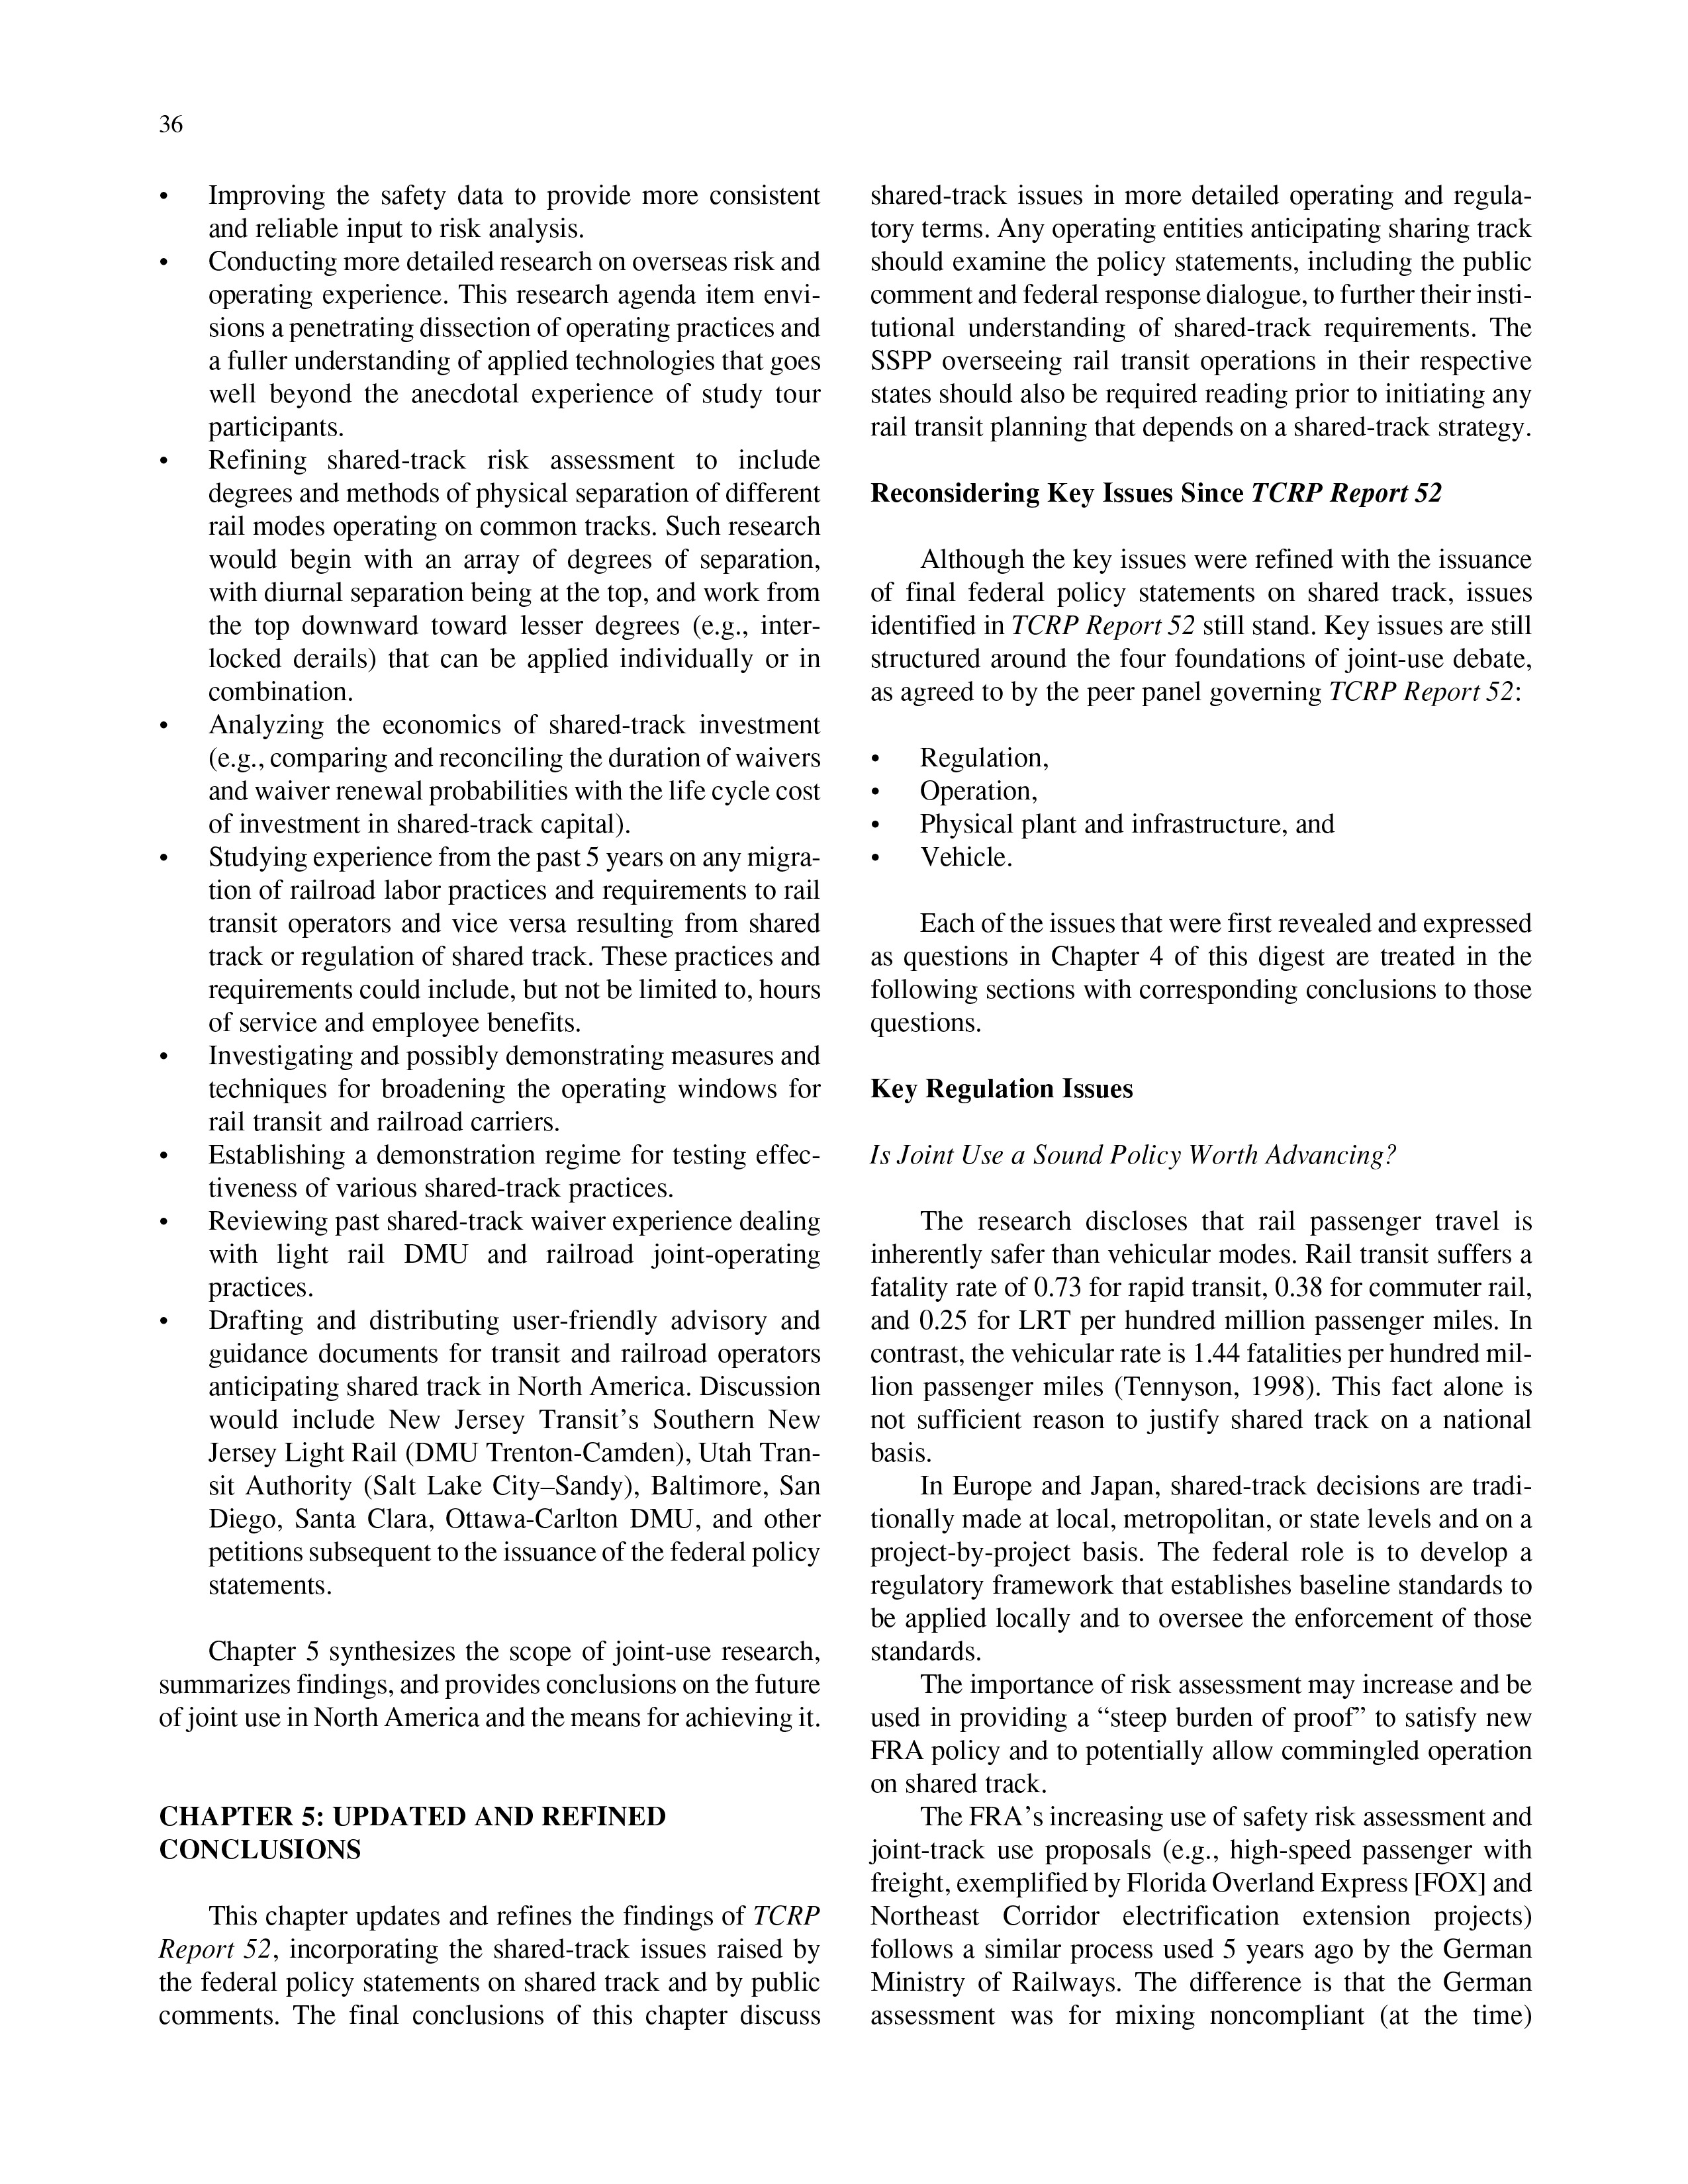list: (156, 179, 830, 1622), (860, 739, 1355, 888)
section: (145, 1794, 681, 1870), (853, 473, 1473, 525), (860, 1064, 1163, 1113)
text: (856, 168, 1553, 482), (865, 1209, 1539, 1473), (865, 1810, 1537, 2055), (853, 1473, 1543, 1661), (856, 555, 1546, 720), (860, 911, 1550, 1058), (137, 1907, 837, 2046), (860, 1665, 1534, 1801), (142, 1633, 830, 1741), (856, 1140, 1418, 1182)
